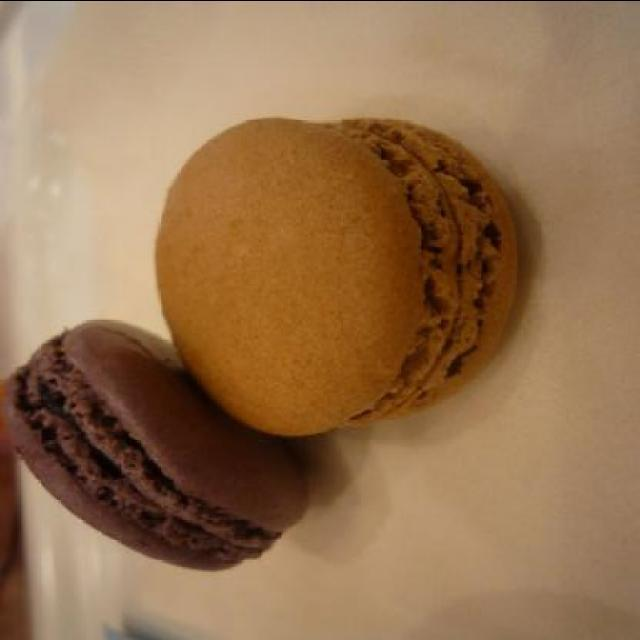Macaron: (2, 318, 310, 574)
